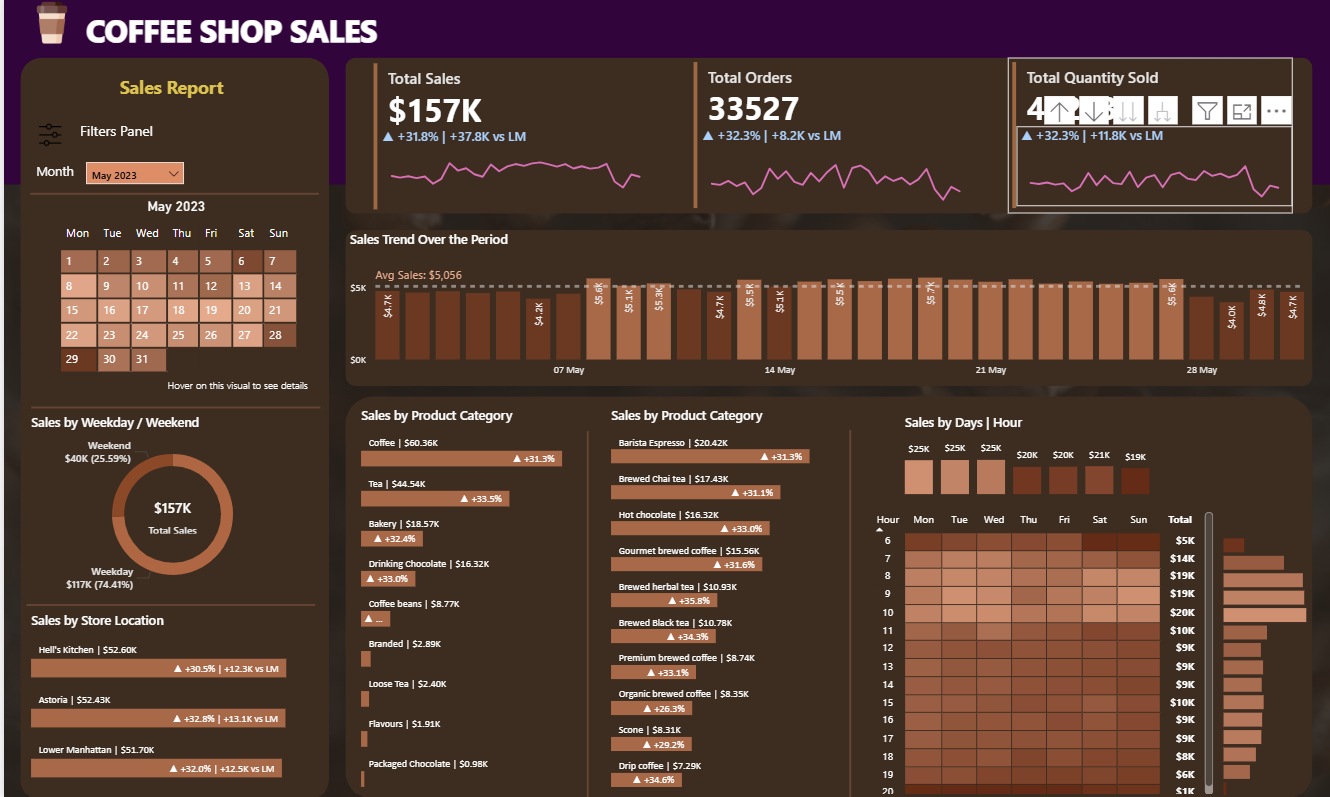

What the dashboard file says about the page in this screenshot:
{"tool":"powerbi","page":{"name":"Page 1","canvas":[1400,850],"ordinal":0},"visuals":[{"type":"shape","box":[0,0,1400,200.4],"z":0},{"type":"shape","box":[17.1,65.9,325.6,784.4],"z":1000},{"type":"shape","box":[359.9,65.9,1020.3,164.8],"z":2000},{"type":"textbox","box":[81.7,10.5,363.8,55.4],"z":3000},{"type":"cardVisual","fields":{"Data":["Transactions.Total Orders"]},"box":[721.7,65.9,300.6,164.8],"z":4000,"group":"g2"},{"type":"cardVisual","fields":{"Data":["Transactions.Total Quantity Sold"]},"box":[1058.6,65.9,300.6,164.8],"z":4000,"group":"g3"},{"type":"cardVisual","fields":{"Data":["Transactions.Total Sales"]},"box":[384.9,67.2,300.6,164.8],"z":4000,"group":"g1"},{"type":"slicer","fields":{"Values":["Date Table.Month Year"]},"box":[81.7,171.4,113.4,31.6],"z":4000},{"type":"group","id":"g1","title":"Group 1","box":[384.9,67.2,300.6,164.8],"z":5000},{"type":"group","id":"g2","title":"Group 1","box":[721.7,65.9,300.6,164.8],"z":6000},{"type":"lineChart","fields":{"Category":["Date Table.Date.Variation.Date Hierarchy.Year","Date Table.Date.Variation.Date Hierarchy.Quarter","Date Table.Date.Variation.Date Hierarchy.Month","Date Table.Date.Variation.Date Hierarchy.Day"],"Y":["Transactions.Total Orders"]},"box":[730.9,138.4,291.3,84.4],"z":6000,"group":"g2"},{"type":"lineChart","fields":{"Category":["Date Table.Date.Variation.Date Hierarchy.Year","Date Table.Date.Variation.Date Hierarchy.Quarter","Date Table.Date.Variation.Date Hierarchy.Month","Date Table.Date.Variation.Date Hierarchy.Day"],"Y":["Transactions.Total Quantity Sold"]},"box":[1067.8,138.4,291.3,84.4],"z":6000,"group":"g3"},{"type":"lineChart","fields":{"Y":["Transactions.Total Sales"],"Category":["Date Table.Date.Variation.Date Hierarchy.Year","Date Table.Date.Variation.Date Hierarchy.Quarter","Date Table.Date.Variation.Date Hierarchy.Month","Date Table.Date.Variation.Date Hierarchy.Day"]},"box":[394.1,139.7,291.3,84.4],"z":6000,"group":"g1"},{"type":"group","id":"g3","title":"Group 1","box":[1058.6,65.9,300.6,164.8],"z":7000},{"type":"pivotTable","fields":{"Rows":["Date Table.Week Number"],"Columns":["Date Table.Day Name"],"Values":["Min(Date Table.Day Number)"]},"box":[29,234.6,304.5,189.8],"z":8000},{"type":"card","fields":{"Values":["Min(Date Table.Month Year)"]},"box":[123.9,209.6,116,29],"z":9000},{"type":"card","fields":{"Values":["Transactions.Foot Note"]},"box":[159.5,399.4,174,25],"z":10000},{"type":"shape","box":[29,428.4,304.5,13.2],"z":11000},{"type":"shape","box":[27.7,203,304.5,13.2],"z":12000},{"type":"donutChart","title":"Sales by Weekday / Weekend","fields":{"Category":["Date Table.Weekday / Weekend"],"Y":["Transactions.Total Sales"]},"box":[23.7,441.6,308.5,195.1],"z":13000},{"type":"card","fields":{"Values":["Transactions.Total Sales"]},"box":[131.8,527.3,92.3,46.1],"z":14000},{"type":"shape","box":[23.7,636.7,304.5,13.2],"z":15000},{"type":"clusteredBarChart","title":"Sales by Store Location","fields":{"Category":["Transactions.store_location"],"Y":["Transactions.Placeholder","Transactions.Total Sales"]},"box":[23.7,649.9,304.5,183.2],"z":16000},{"type":"shape","box":[359.9,247.8,1020.3,164.8],"z":17000},{"type":"columnChart","title":"Sales Trend Over the Period","fields":{"Category":["Transactions.transaction_date"],"Y":["Transactions.Total Sales"]},"box":[359.9,247.8,1020.3,164.8],"z":18000},{"type":"shape","box":[359.9,423.2,1020.3,425.8],"z":19000},{"type":"clusteredBarChart","title":"Sales by Product Category","fields":{"Y":["Transactions.Placeholder","Transactions.Total Sales"],"Category":["Transactions.product_category"]},"box":[371.7,433.7,250.5,407.3],"z":20000},{"type":"shape","box":[609,460.1,13.2,390.2],"z":21000},{"type":"clusteredBarChart","title":"Sales by Product Category","fields":{"Y":["Transactions.Placeholder","Transactions.Total Sales"],"Category":["Transactions.product_type"]},"box":[635.4,433.7,250.5,407.3],"z":22000},{"type":"shape","box":[885.9,458.7,13.2,390.2],"z":23000},{"type":"pivotTable","fields":{"Rows":["Transactions.Hour"],"Columns":["Date Table.Day Name"],"Values":["Transactions.Total Sales"]},"box":[909.6,540.5,370.4,308.5],"z":24000},{"type":"barChart","fields":{"Category":["Transactions.Hour"],"Y":["Transactions.Total Sales"]},"box":[1281.3,560.3,98.9,290],"z":25000},{"type":"columnChart","title":"Sales by Days | Hour","fields":{"Y":["Transactions.Total Sales"],"Category":["Date Table.Day Name"]},"box":[945.2,441.6,268.9,91],"z":26000},{"type":"textbox","box":[29,171.4,52.7,31.6],"z":26001},{"type":"textbox","box":[109.4,79.1,134.5,39.5],"z":26002},{"type":"textbox","box":[75.1,127.9,101.5,33],"z":26003},{"type":"image","box":[29,127.9,39.5,39.5],"z":26004},{"type":"image","box":[23.7,0,54,58],"z":26005}]}

Visuals, with their boxes in screenshot pixels (x1, y1, x2, y2), scaled from the page's 1400x850 canvas onto the 1330x797 screenshot:
shape: <bbox>0, 0, 1329, 188</bbox>
shape: <bbox>16, 62, 326, 796</bbox>
shape: <bbox>342, 62, 1311, 216</bbox>
textbox: <bbox>78, 10, 423, 62</bbox>
cardVisual - Transactions.Total Orders: <bbox>686, 62, 971, 216</bbox>
cardVisual - Transactions.Total Quantity Sold: <bbox>1006, 62, 1291, 216</bbox>
cardVisual - Transactions.Total Sales: <bbox>366, 63, 651, 218</bbox>
slicer - Date Table.Month Year: <bbox>78, 161, 185, 190</bbox>
"Group 1" group: <bbox>366, 63, 651, 218</bbox>
"Group 1" group: <bbox>686, 62, 971, 216</bbox>
lineChart - Date Table.Date.Variation.Date Hierarchy.Year x Date Table.Date.Variation.Date Hierarchy.Quarter: <bbox>694, 130, 971, 209</bbox>
lineChart - Date Table.Date.Variation.Date Hierarchy.Year x Date Table.Date.Variation.Date Hierarchy.Quarter: <bbox>1014, 130, 1291, 209</bbox>
lineChart - Transactions.Total Sales x Date Table.Date.Variation.Date Hierarchy.Year: <bbox>374, 131, 651, 210</bbox>
"Group 1" group: <bbox>1006, 62, 1291, 216</bbox>
pivotTable - Date Table.Week Number x Date Table.Day Name: <bbox>28, 220, 317, 398</bbox>
card - Min(Date Table.Month Year): <bbox>118, 197, 228, 224</bbox>
card - Transactions.Foot Note: <bbox>152, 374, 317, 398</bbox>
shape: <bbox>28, 402, 317, 414</bbox>
shape: <bbox>26, 190, 316, 203</bbox>
"Sales by Weekday / Weekend" donutChart: <bbox>23, 414, 316, 597</bbox>
card - Transactions.Total Sales: <bbox>125, 494, 213, 538</bbox>
shape: <bbox>23, 597, 312, 609</bbox>
"Sales by Store Location" clusteredBarChart: <bbox>23, 609, 312, 781</bbox>
shape: <bbox>342, 232, 1311, 387</bbox>
"Sales Trend Over the Period" columnChart: <bbox>342, 232, 1311, 387</bbox>
shape: <bbox>342, 397, 1311, 796</bbox>
"Sales by Product Category" clusteredBarChart: <bbox>353, 407, 591, 789</bbox>
shape: <bbox>579, 431, 591, 796</bbox>
"Sales by Product Category" clusteredBarChart: <bbox>604, 407, 842, 789</bbox>
shape: <bbox>842, 430, 854, 796</bbox>
pivotTable - Transactions.Hour x Date Table.Day Name: <bbox>864, 507, 1216, 796</bbox>
barChart - Transactions.Hour x Transactions.Total Sales: <bbox>1217, 525, 1311, 796</bbox>
"Sales by Days | Hour" columnChart: <bbox>898, 414, 1153, 499</bbox>
textbox: <bbox>28, 161, 78, 190</bbox>
textbox: <bbox>104, 74, 232, 111</bbox>
textbox: <bbox>71, 120, 168, 151</bbox>
image: <bbox>28, 120, 65, 157</bbox>
image: <bbox>23, 0, 74, 54</bbox>
